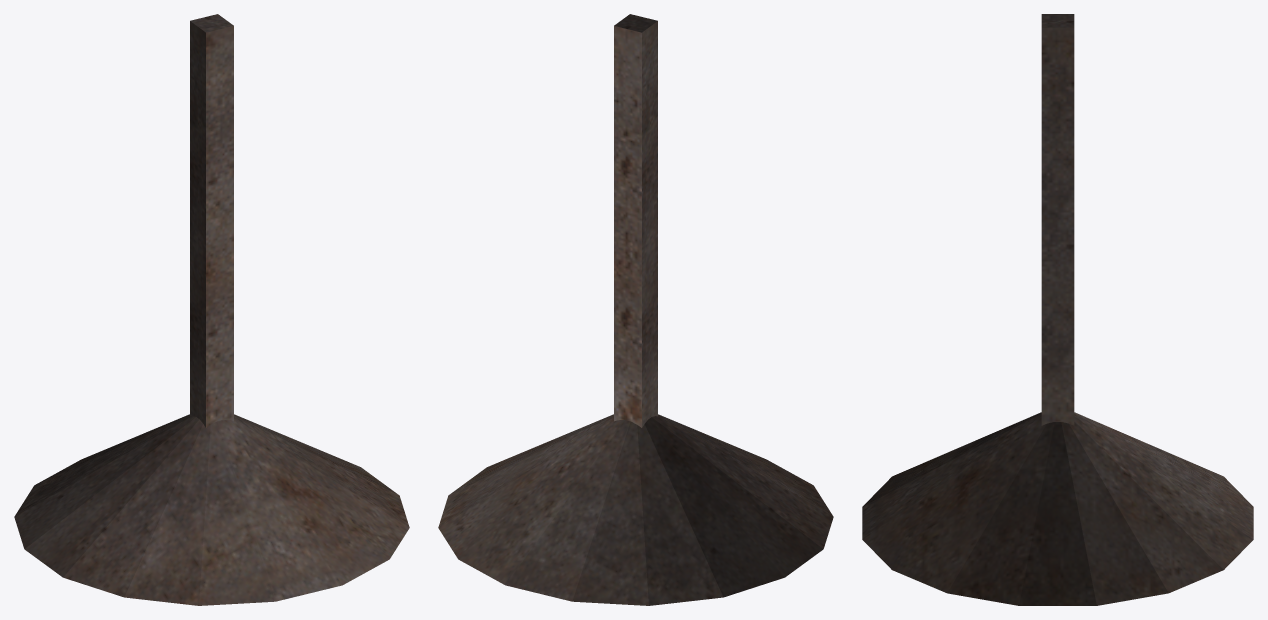
The model's file is minelight1.fbx.
3 renders of one model, left to right at view 1: azimuth 30°, elevation 25°; view 2: azimuth 150°, elevation 25°; view 3: azimuth 270°, elevation 25°, orthographic.
Parts seen in each view (by area): view 1: minelight1; view 2: minelight1; view 3: minelight1.
Part boxes in pixels (<box>): minelight1: <box>14,14,409,605</box>; minelight1: <box>438,14,833,605</box>; minelight1: <box>862,14,1253,605</box>.
Size of the model in its own units: 3600 by 5800 by 3600.
